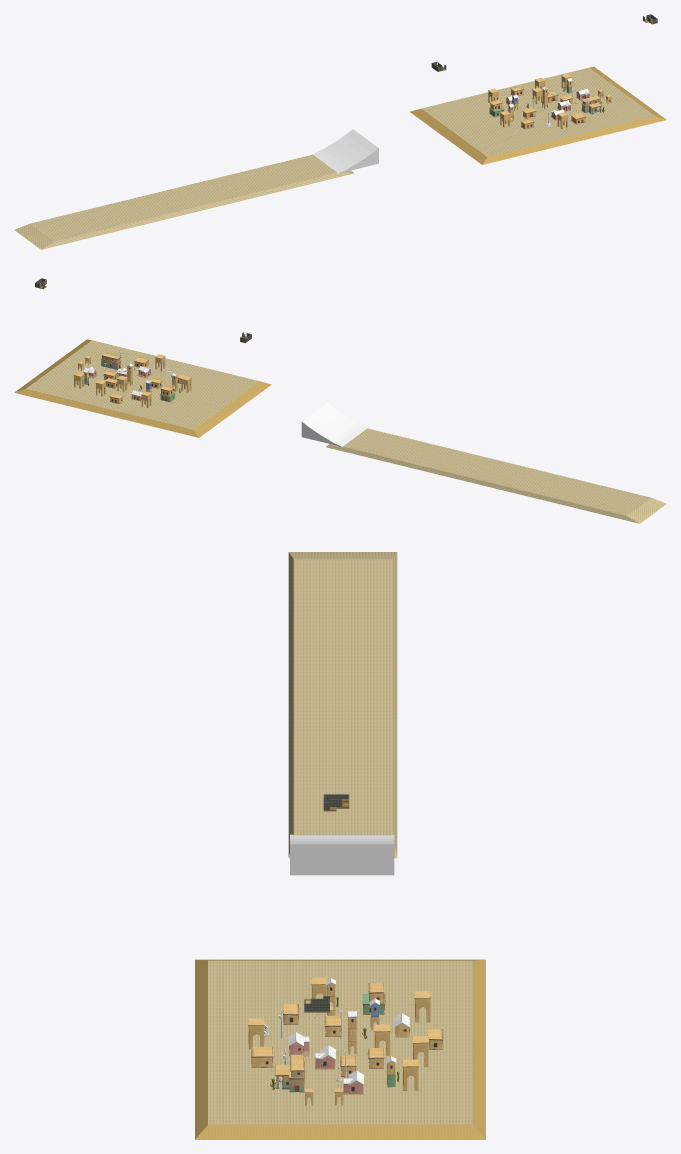
Rendered from chicken_gun___lava.glb.
3 views of the same model, one above another, from view 1: azimuth 30°, elevation 25°; view 2: azimuth 150°, elevation 25°; view 3: azimuth 270°, elevation 25° (orthographic). The views are drawn at different scales.
Parts seen in each view (by area): view 1: Combined_Mesh__root__scene__0_sand_0, Combined_Mesh__root__scene__0_wall01_0, Combined_Mesh__root__scene__0_No_Name_0_0, Combined_Mesh__root__scene__0_Roof02_0, Combined_Mesh__root__scene__0_HouseTextureYellowBlue_0; view 2: Combined_Mesh__root__scene__0_sand_0, Combined_Mesh__root__scene__0_wall01_0, Combined_Mesh__root__scene__0_Roof02_0, Combined_Mesh__root__scene__0_No_Name_0_0; view 3: Combined_Mesh__root__scene__0_sand_0, Combined_Mesh__root__scene__0_wall01_0, Combined_Mesh__root__scene__0_Roof02_0, Combined_Mesh__root__scene__0_No_Name_0_0, Combined_Mesh__root__scene__0_HouseTextureYellowBlue_0.
Part boxes in pixels (<box>): Combined_Mesh__root__scene__0_sand_0: <box>14,67,654,249</box>; Combined_Mesh__root__scene__0_wall01_0: <box>410,19,666,164</box>; Combined_Mesh__root__scene__0_No_Name_0_0: <box>312,129,378,173</box>; Combined_Mesh__root__scene__0_Roof02_0: <box>488,73,611,128</box>; Combined_Mesh__root__scene__0_HouseTextureYellowBlue_0: <box>489,86,534,129</box>; Combined_Mesh__root__scene__0_sand_0: <box>26,340,666,523</box>; Combined_Mesh__root__scene__0_wall01_0: <box>14,279,271,437</box>; Combined_Mesh__root__scene__0_Roof02_0: <box>73,352,191,407</box>; Combined_Mesh__root__scene__0_No_Name_0_0: <box>301,403,368,446</box>; Combined_Mesh__root__scene__0_sand_0: <box>208,552,472,1124</box>; Combined_Mesh__root__scene__0_wall01_0: <box>195,799,485,1139</box>; Combined_Mesh__root__scene__0_Roof02_0: <box>248,977,430,1105</box>; Combined_Mesh__root__scene__0_No_Name_0_0: <box>290,834,394,875</box>; Combined_Mesh__root__scene__0_HouseTextureYellowBlue_0: <box>282,983,443,1050</box>.
Size of what is drawn, in the model's own units: 449 by 53.2 by 91.23.
22 materials, 12 textured.
